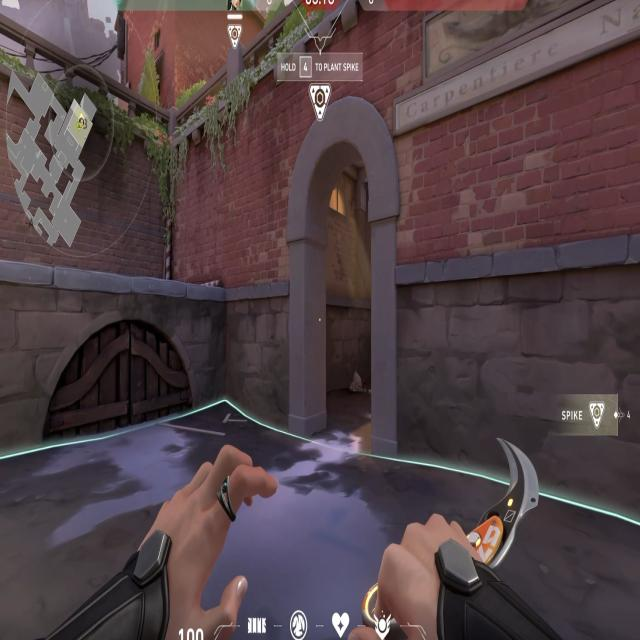B_Boathouse: (279, 80, 411, 463)
